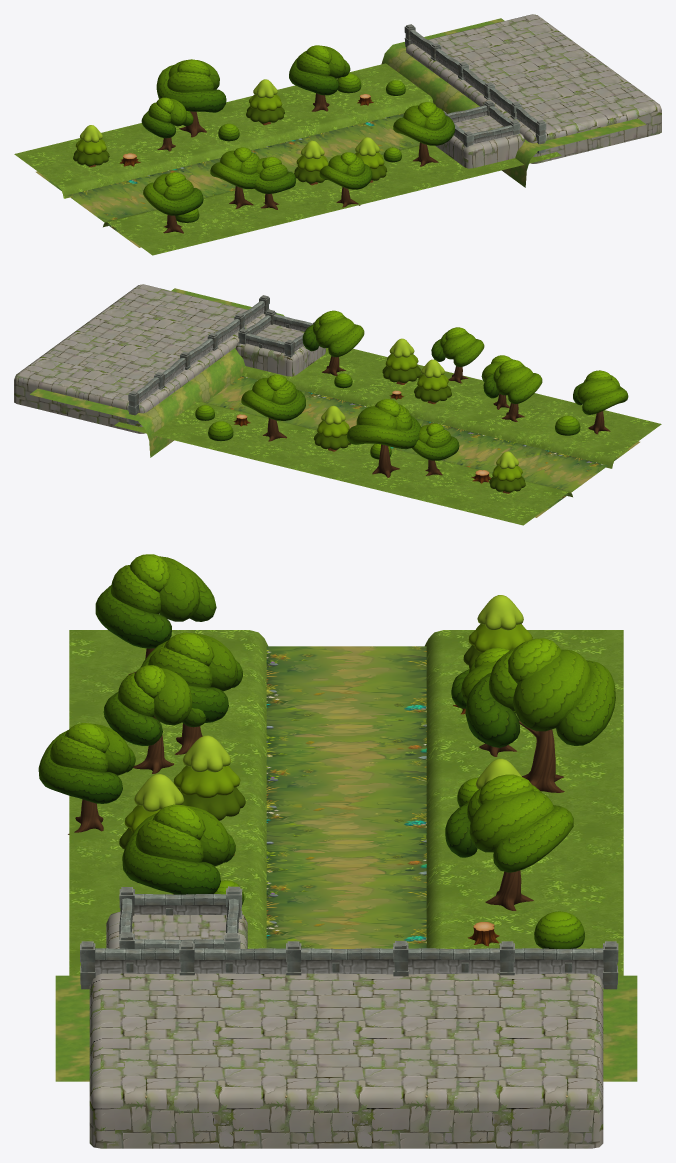
Rendered from map.fbx.
3 views of the same model, one above another, from view 1: azimuth 30°, elevation 25°; view 2: azimuth 150°, elevation 25°; view 3: azimuth 270°, elevation 25° (orthographic). The views are drawn at different scales.
Visible parts, largest first — view 1: Tree1, pCube3, Ground1, Ground2, Ground4, Ground3, pCube4, Wall5, Wall9, Wall4, Wall6, Wall7 (+3 smaller); view 2: Tree1, pCube3, Ground1, Ground2, Ground4, Ground3, pCube4, Wall4, Wall6, Wall9, Wall7, Wall8 (+2 smaller); view 3: pCube3, Tree1, Ground4, Ground1, Ground2, Ground3, Wall9, pCube4, Wall6, Wall8, Wall7, Wall5 (+3 smaller).
Boxes of the visible parts, x1,y1,x2,y2 form: Tree1: (73, 45, 454, 233); pCube3: (406, 14, 661, 163); Ground1: (14, 63, 433, 198); Ground2: (103, 145, 561, 255); Ground4: (36, 113, 419, 247); Ground3: (381, 18, 645, 187); pCube4: (435, 115, 524, 168); Wall5: (516, 107, 546, 153); Wall9: (458, 61, 494, 99); Wall4: (443, 100, 494, 122); Wall6: (404, 24, 433, 55); Wall7: (430, 43, 459, 75); Tree1: (195, 310, 628, 493); pCube3: (14, 284, 265, 433); Ground1: (114, 401, 572, 525); Ground2: (242, 348, 661, 468); Ground4: (205, 376, 639, 517); Ground3: (30, 288, 284, 457); pCube4: (235, 324, 325, 376); Wall4: (238, 328, 294, 357); Wall6: (128, 377, 159, 424); Wall9: (180, 333, 218, 369); Wall7: (154, 358, 185, 389); Wall8: (215, 313, 244, 345); pCube3: (89, 973, 603, 1148); Tree1: (38, 554, 615, 948); Ground4: (266, 646, 426, 948); Ground1: (425, 630, 623, 975); Ground2: (69, 630, 267, 975); Ground3: (55, 975, 637, 1081); Wall9: (286, 941, 408, 976); pCube4: (106, 912, 247, 948); Wall6: (513, 941, 618, 989); Wall8: (179, 941, 287, 975); Wall7: (408, 941, 514, 975); Wall5: (80, 941, 180, 989).
Bounding box in the file's own units: 153 × 25.69 × 76.67.
6 materials, 6 textured.
